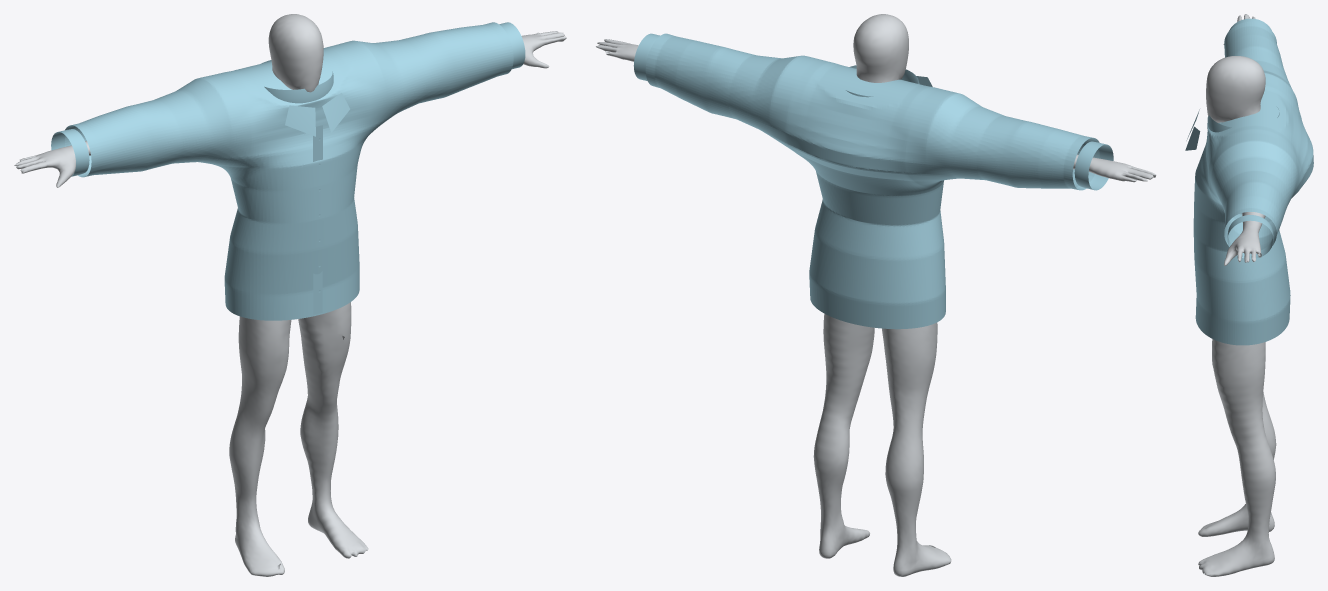
File: fit.glb
3 renders of one model, left to right at view 1: azimuth 30°, elevation 25°; view 2: azimuth 150°, elevation 25°; view 3: azimuth 270°, elevation 25°, orthographic. The views are drawn at different scales.
Visible parts, largest first — view 1: ATEL-23 Shirt v2.3, AtelierX_mannequin_180cm; view 2: ATEL-23 Shirt v2.3, AtelierX_mannequin_180cm; view 3: ATEL-23 Shirt v2.3, AtelierX_mannequin_180cm.
Part boxes in pixels (bbox=[...]): ATEL-23 Shirt v2.3: bbox=[51, 22, 525, 320]; AtelierX_mannequin_180cm: bbox=[14, 14, 566, 576]; ATEL-23 Shirt v2.3: bbox=[633, 33, 1113, 329]; AtelierX_mannequin_180cm: bbox=[596, 14, 1156, 576]; ATEL-23 Shirt v2.3: bbox=[1185, 18, 1313, 345]; AtelierX_mannequin_180cm: bbox=[1198, 14, 1276, 576].
Size of the model in its own units: 1.93 by 1.8 by 0.4249.
